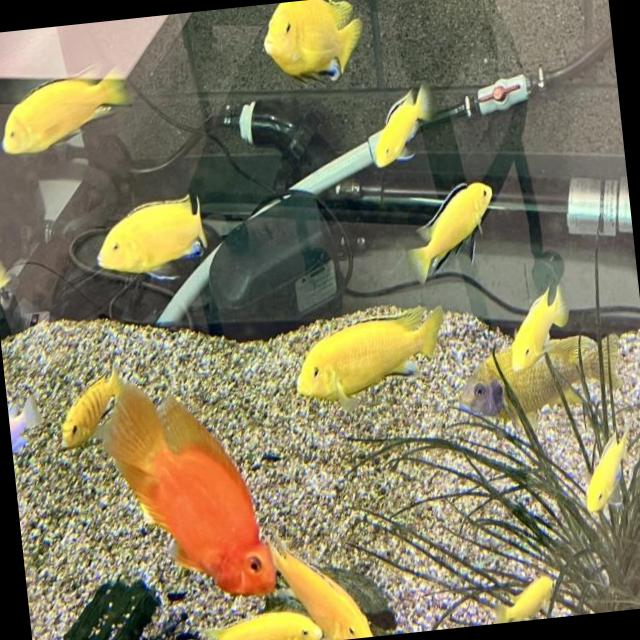YellowCichlid: (263, 297, 454, 414), (452, 335, 638, 425), (0, 58, 157, 161), (81, 178, 229, 284), (387, 174, 510, 289), (274, 531, 389, 640), (250, 0, 375, 97), (497, 278, 582, 372), (51, 358, 122, 458), (371, 90, 444, 174), (478, 562, 576, 624), (178, 601, 322, 640), (576, 426, 628, 532), (0, 249, 31, 302)
